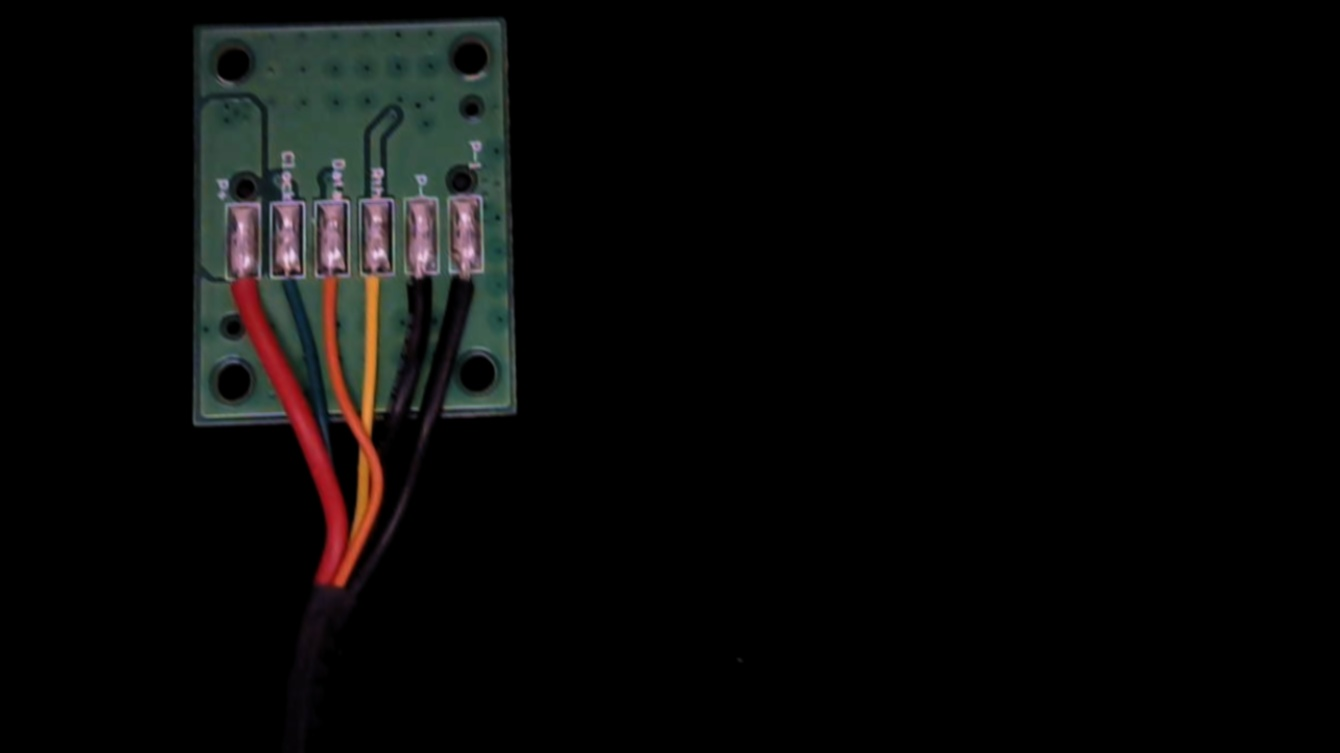Black: (402, 256, 435, 333)
Black1: (446, 256, 484, 338)
Green: (269, 258, 307, 328)
Orange: (312, 258, 348, 329)
Red: (222, 264, 258, 339)
Yellow: (357, 254, 395, 333)
